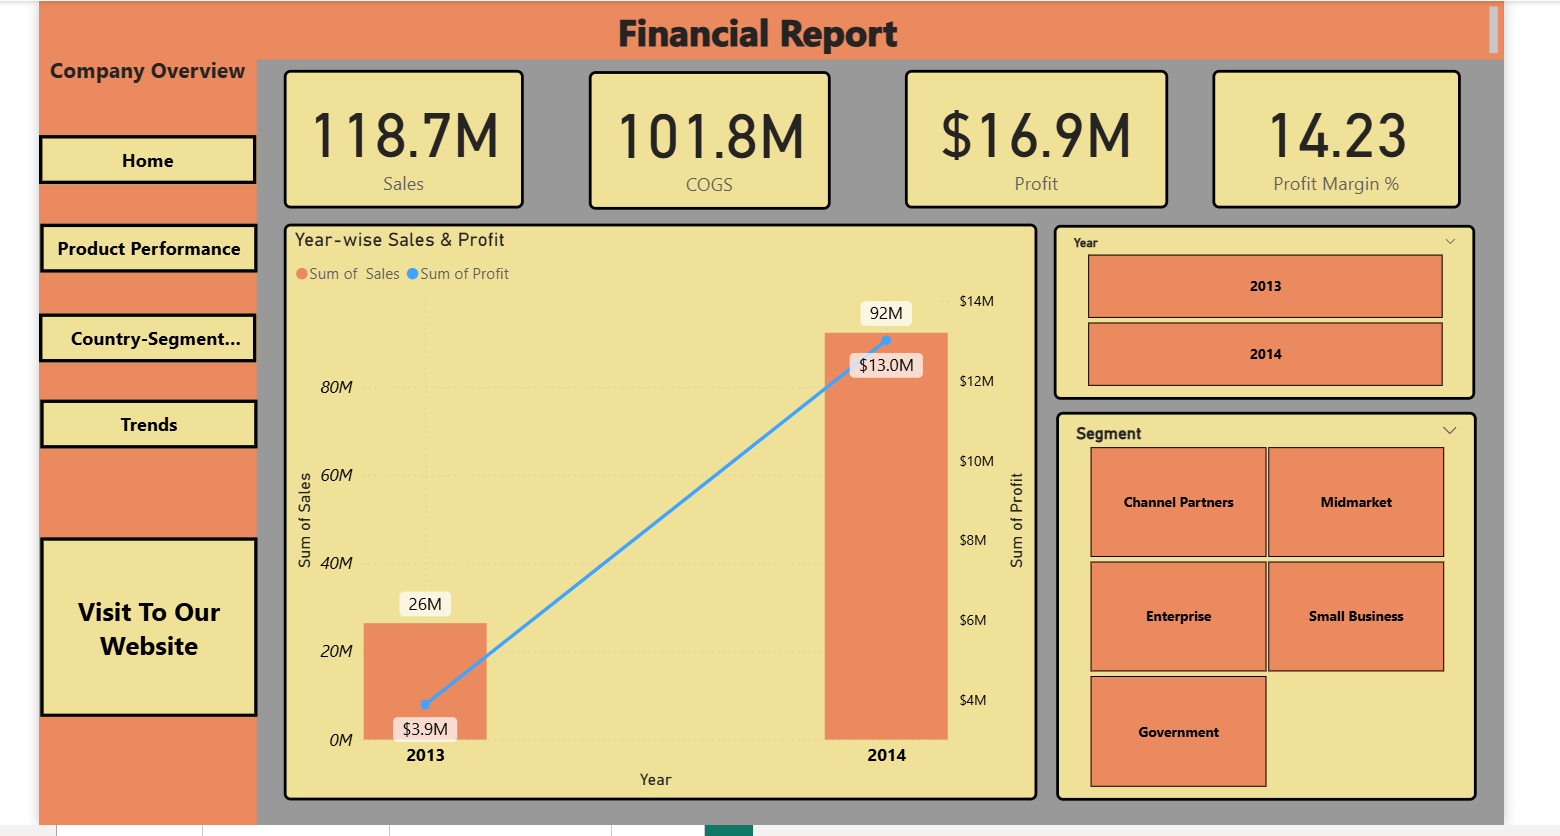

The dashboard page shown, as its layout file describes it:
{"tool":"powerbi","page":{"name":"Q9 Dashboard","canvas":[1280,720],"ordinal":0},"visuals":[{"type":"textbox","box":[0,0,1280,51.4],"z":0},{"type":"textbox","box":[0,41.4,190,678.6],"z":1000},{"type":"actionButton","box":[0,117.1,190,42.9],"z":2000},{"type":"actionButton","box":[0,272.9,190,42.9],"z":3000},{"type":"actionButton","box":[1.4,194.3,190,42.9],"z":4000},{"type":"actionButton","box":[1.4,348.6,190,42.9],"z":5000},{"type":"card","fields":{"Values":["Sum(financials. Sales)"]},"box":[214.3,60,210,121.4],"z":6000},{"type":"card","fields":{"Values":["financials.Profit Margin %"]},"box":[1025.7,60,217.1,121.4],"z":7000},{"type":"card","fields":{"Values":["Sum(financials.Profit)"]},"box":[757.1,60,230,121.4],"z":8000},{"type":"card","fields":{"Values":["Sum(financials.COGS)"]},"box":[480,61.4,211.4,121.4],"z":9000},{"type":"lineClusteredColumnComboChart","title":"Year-wise Sales & Profit","fields":{"Y":["Sum(financials. Sales)"],"Category":["financials.Date.Variation.Date Hierarchy.Year"],"Y2":["Sum(financials.Profit)"]},"box":[214.3,194.3,658.6,504.3],"z":10000},{"type":"slicer","fields":{"Values":["financials.Date.Variation.Date Hierarchy.Year"]},"box":[887.1,195.7,368.6,152.9],"z":11000},{"type":"slicer","fields":{"Values":["financials.Segment"]},"box":[888.6,358.6,367.1,340],"z":12000},{"type":"actionButton","box":[1.4,468.6,190,157.1],"z":13000}]}

Visuals, with their boxes in screenshot pixels (x1, y1, x2, y2):
textbox: bbox(32, 0, 1500, 59)
textbox: bbox(32, 47, 250, 825)
actionButton: bbox(32, 134, 250, 183)
actionButton: bbox(32, 313, 250, 362)
actionButton: bbox(34, 223, 252, 272)
actionButton: bbox(34, 400, 252, 449)
card - Sum(financials. Sales): bbox(278, 69, 519, 208)
card - financials.Profit Margin %: bbox(1208, 69, 1457, 208)
card - Sum(financials.Profit): bbox(900, 69, 1164, 208)
card - Sum(financials.COGS): bbox(583, 70, 825, 210)
"Year-wise Sales & Profit" lineClusteredColumnComboChart: bbox(278, 223, 1033, 801)
slicer - financials.Date.Variation.Date Hierarchy.Year: bbox(1049, 224, 1472, 400)
slicer - financials.Segment: bbox(1051, 411, 1472, 801)
actionButton: bbox(34, 537, 252, 717)
